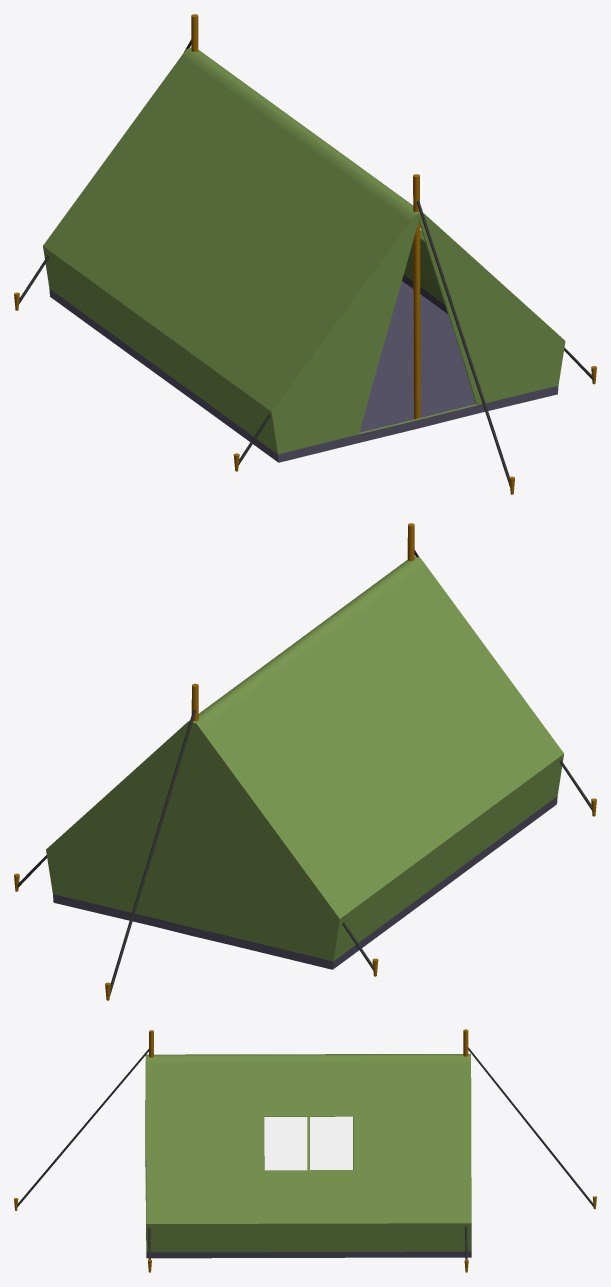
File: Tent.fbx
3 views of the same model, one above another, from view 1: azimuth 30°, elevation 25°; view 2: azimuth 150°, elevation 25°; view 3: azimuth 270°, elevation 25° (orthographic). The views are drawn at different scales.
Parts seen in each view (by area): view 1: tent1, pCylinder1, pCylinder4; view 2: tent1, pCylinder6; view 3: tent1, window, pCylinder4, pCylinder6.
Part boxes in pixels (box(x1,y1,x2,y2)): tent1: box(43, 47, 565, 462); pCylinder1: box(413, 174, 420, 419); pCylinder4: box(416, 201, 509, 486); tent1: box(46, 556, 563, 969); pCylinder6: box(109, 710, 195, 996); tent1: box(145, 1054, 471, 1258); window: box(264, 1116, 352, 1170); pCylinder4: box(16, 1049, 149, 1207); pCylinder6: box(468, 1047, 593, 1207).
Bounding box in the file's own units: 36.1 × 23.76 × 70.04.
